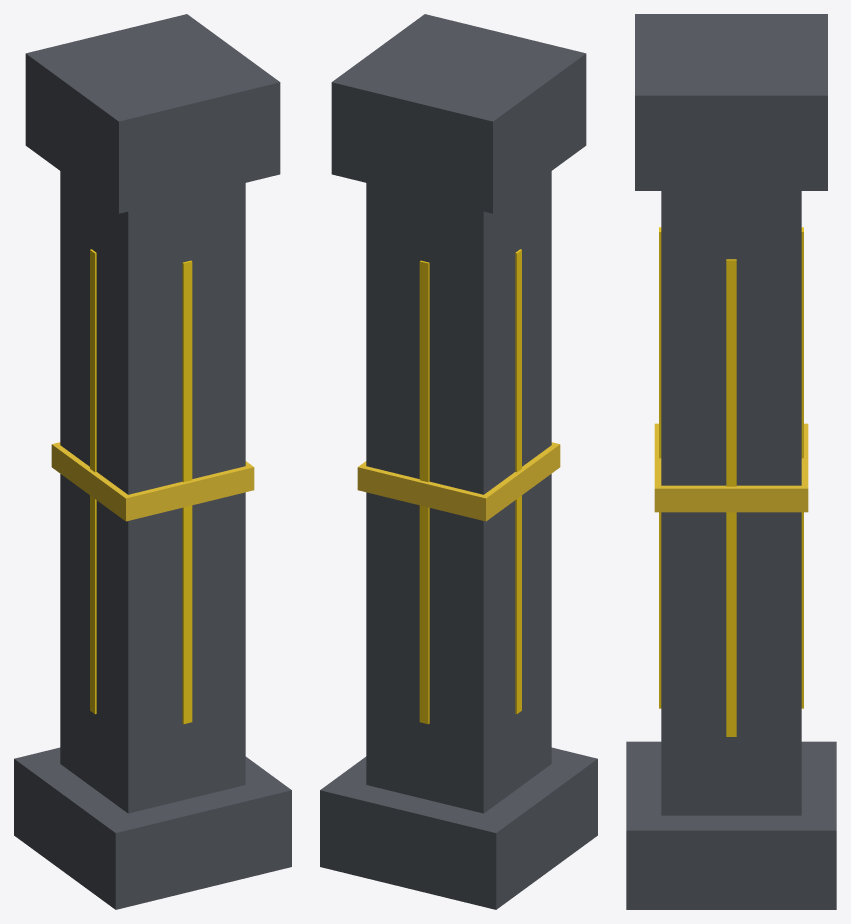
File: titan_pillar.obj
3 renders of one model, left to right at view 1: azimuth 30°, elevation 25°; view 2: azimuth 150°, elevation 25°; view 3: azimuth 270°, elevation 25°, orthographic. The views are drawn at different scales.
Parts seen in each view (by area): view 1: Pillar_Monolith, Capital, Base, Gold_Trim_Mid, Glyph_V1, Glyph_V2; view 2: Pillar_Monolith, Capital, Base, Gold_Trim_Mid, Glyph_V1, Glyph_V2; view 3: Pillar_Monolith, Capital, Base, Gold_Trim_Mid, Glyph_V2, Glyph_V1.
Part boxes in pixels (bbox=[...]): Pillar_Monolith: bbox=[60, 171, 245, 813]; Capital: bbox=[25, 14, 280, 213]; Base: bbox=[14, 747, 291, 909]; Gold_Trim_Mid: bbox=[51, 442, 254, 521]; Glyph_V1: bbox=[182, 260, 192, 724]; Glyph_V2: bbox=[90, 249, 96, 714]; Pillar_Monolith: bbox=[366, 171, 551, 813]; Capital: bbox=[331, 14, 586, 213]; Base: bbox=[320, 747, 597, 909]; Gold_Trim_Mid: bbox=[357, 442, 560, 521]; Glyph_V1: bbox=[419, 260, 429, 724]; Glyph_V2: bbox=[515, 249, 521, 714]; Pillar_Monolith: bbox=[661, 191, 801, 815]; Capital: bbox=[635, 14, 827, 190]; Base: bbox=[626, 741, 836, 909]; Gold_Trim_Mid: bbox=[654, 423, 808, 512]; Glyph_V2: bbox=[726, 259, 736, 736]; Glyph_V1: bbox=[659, 227, 803, 708].
Bounding box in the file's own units: 2.4 × 10.2 × 2.4.
